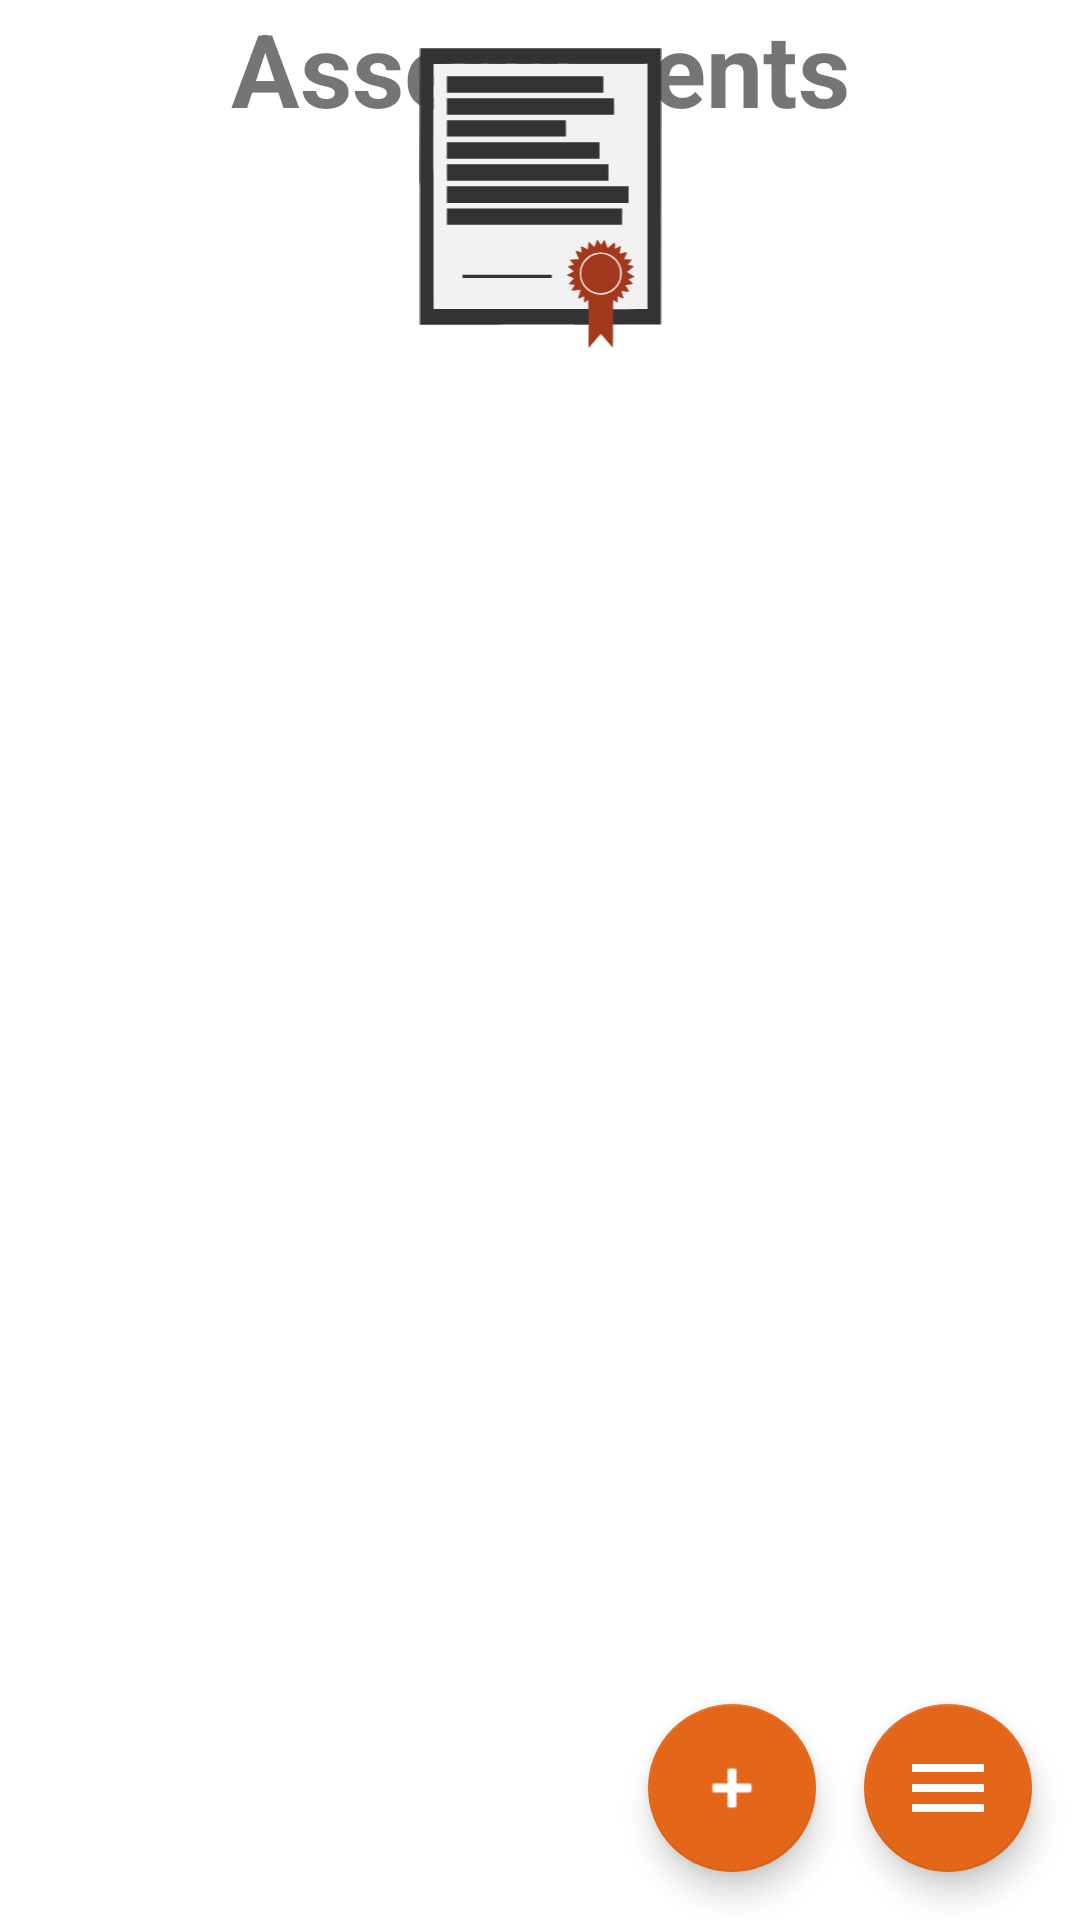

Point at icon controls on the screen. Image size 1080px×1920px, points as point (x, y).
add: point (732, 1788)
hamburger: point (948, 1788)
